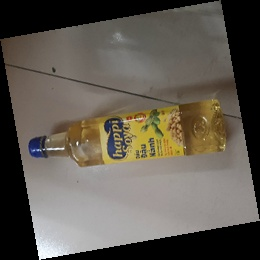Happy Soya: (28, 96, 228, 169)
